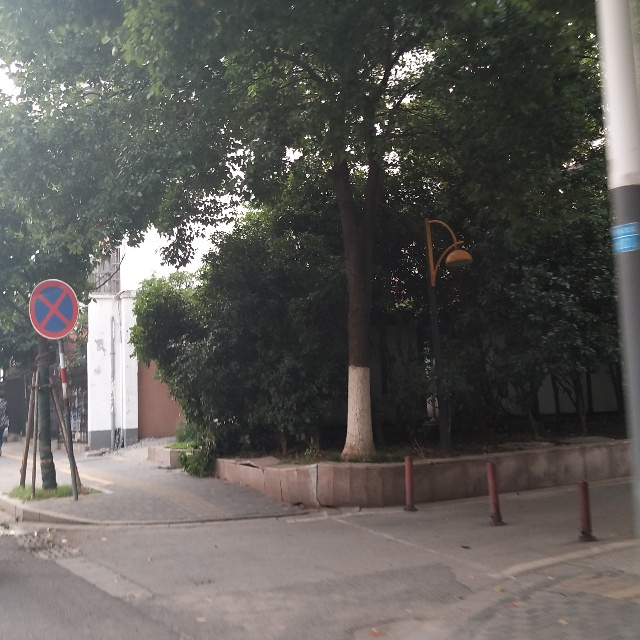stop: (34, 286, 77, 333)
